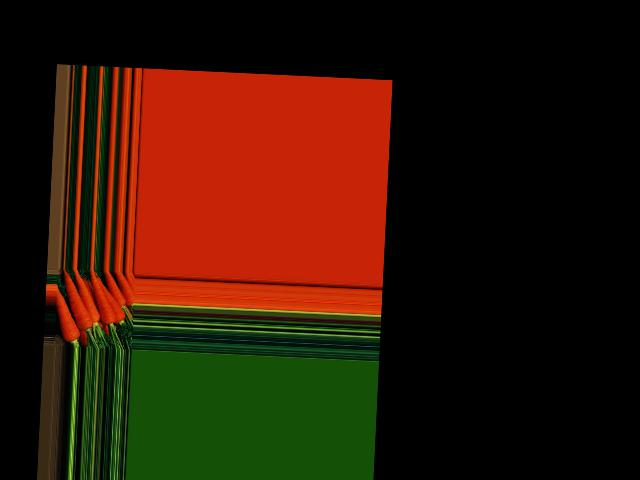carrot: (104, 272, 129, 310)
